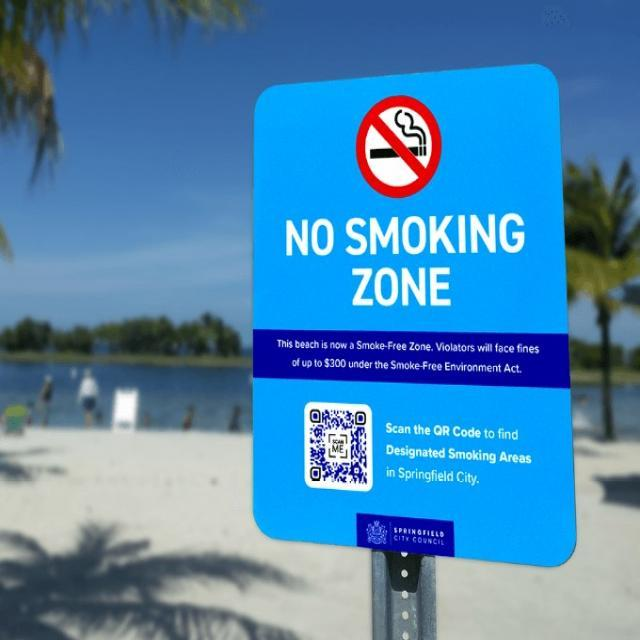qr_code: (309, 409, 367, 485)
